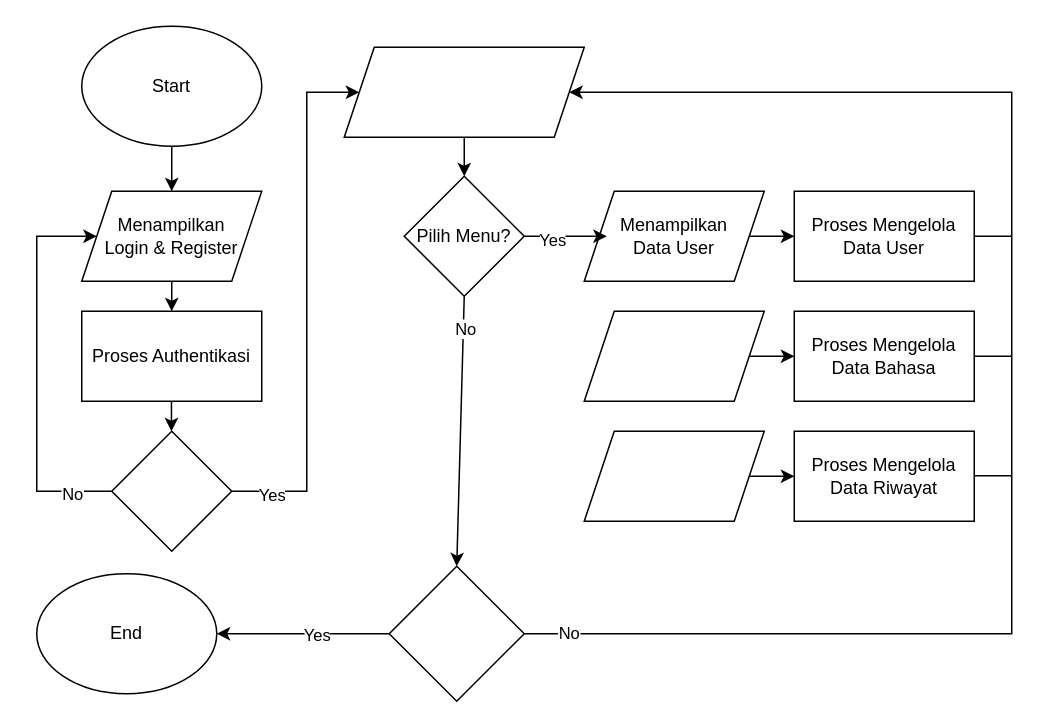
Image size: 1050x728. Some labels were removed from this diagram. Each missing label, with the centre of its shape:
"Log Out" belongs at (x=456, y=633).
"Menampilkan Data Bahasa" belongs at (x=673, y=355).
"Menampilkan Data Riwayat" belongs at (x=673, y=475).
"Menampilkan Halaman Website" belongs at (x=463, y=91).
"Validasi" belongs at (x=171, y=490).
